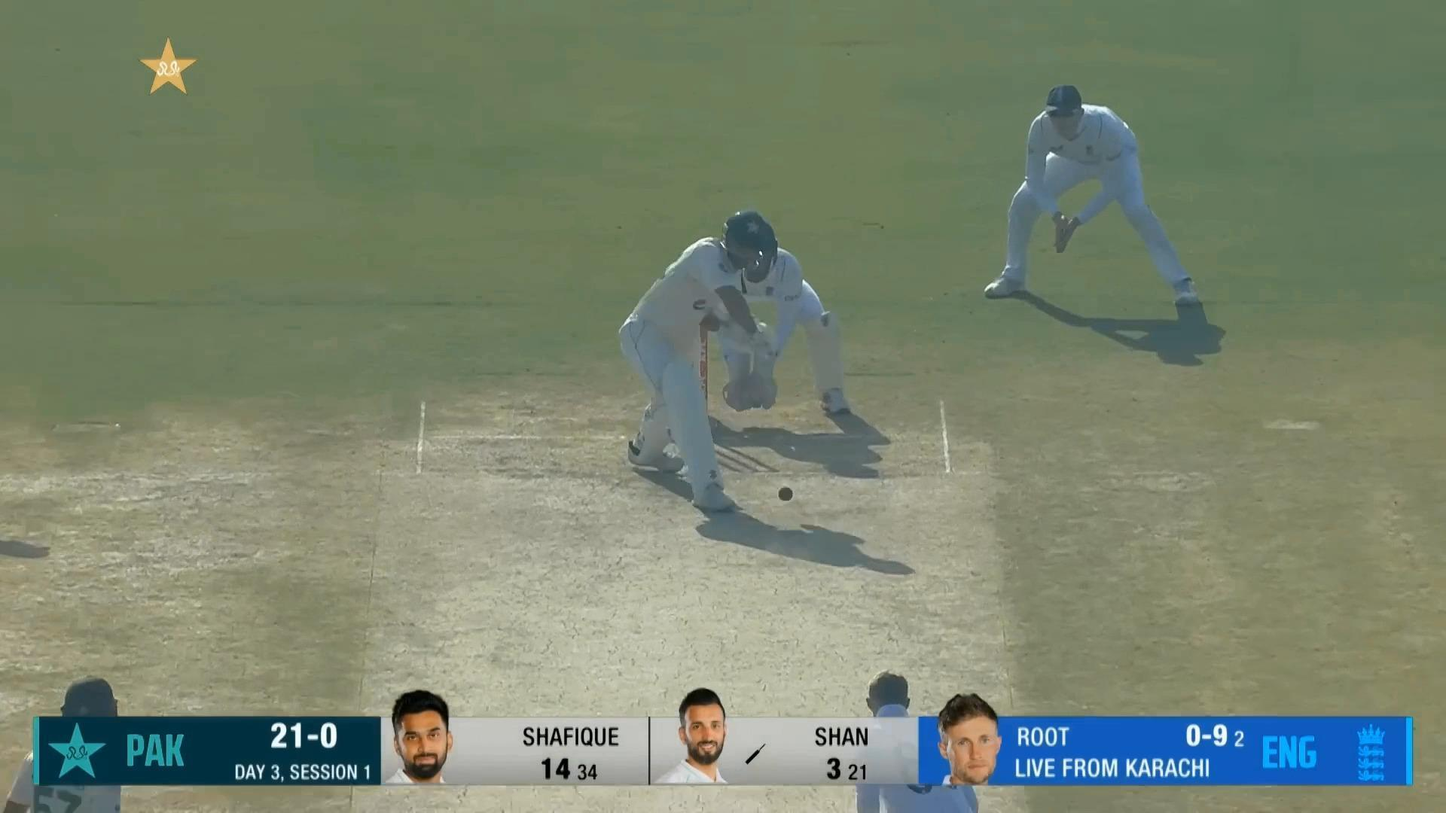BM 1: (618, 210, 775, 511)
BO: (853, 668, 980, 813)
